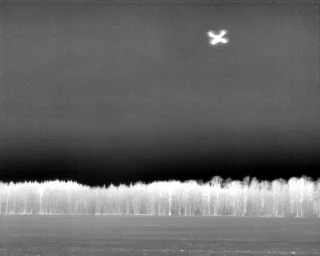DRONE: (203, 24, 233, 51)
